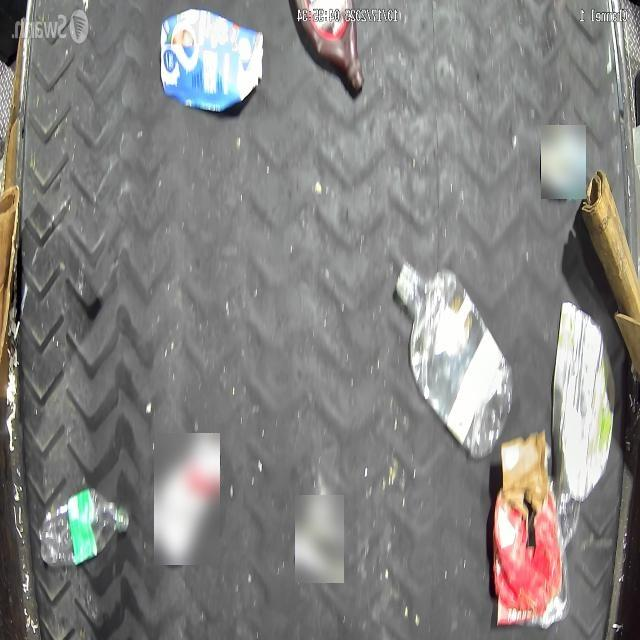non_white_jug: (160, 8, 264, 114), (293, 0, 365, 90)
plastic_bottle: (396, 264, 514, 459), (36, 486, 130, 568)
